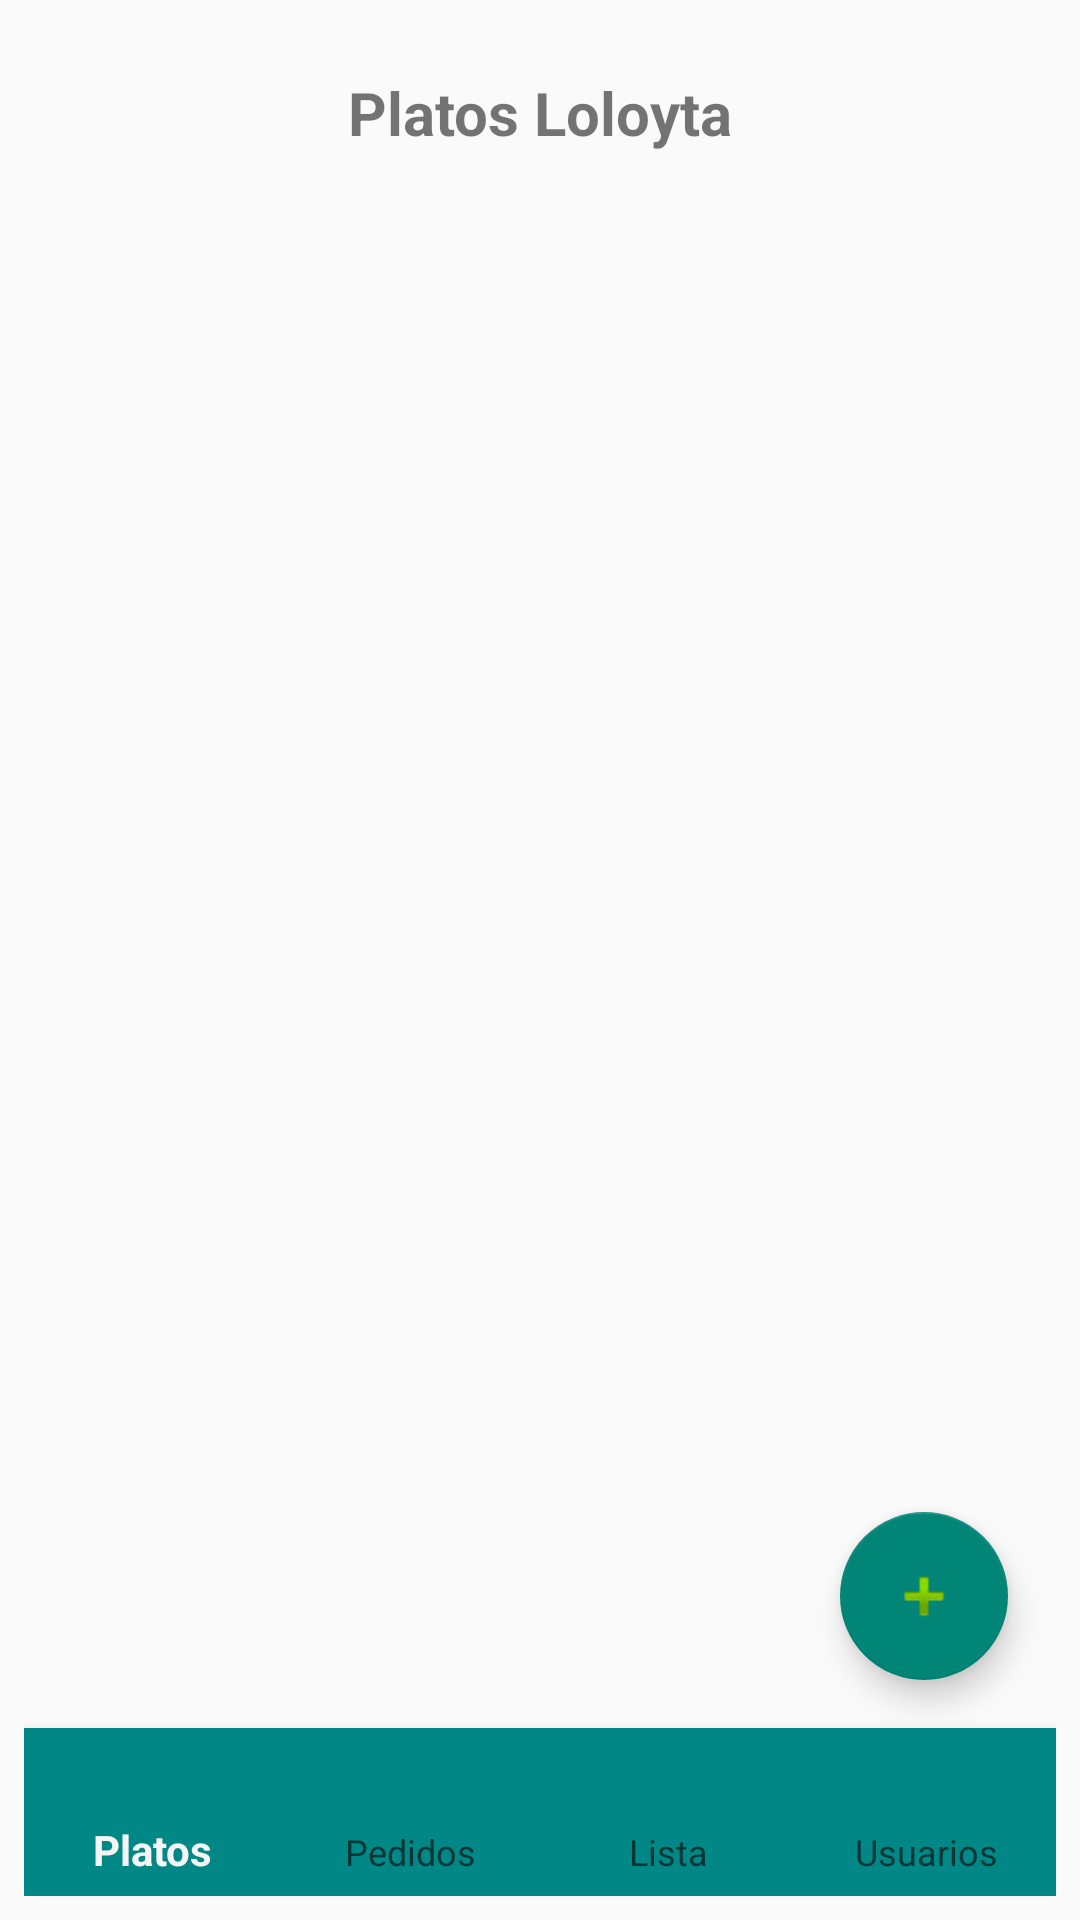

Icon bounding boxes for this 1080 × 1920 phone screenshot, format (x1, y1, x2, y2):
add: (840, 1512, 1008, 1680)
